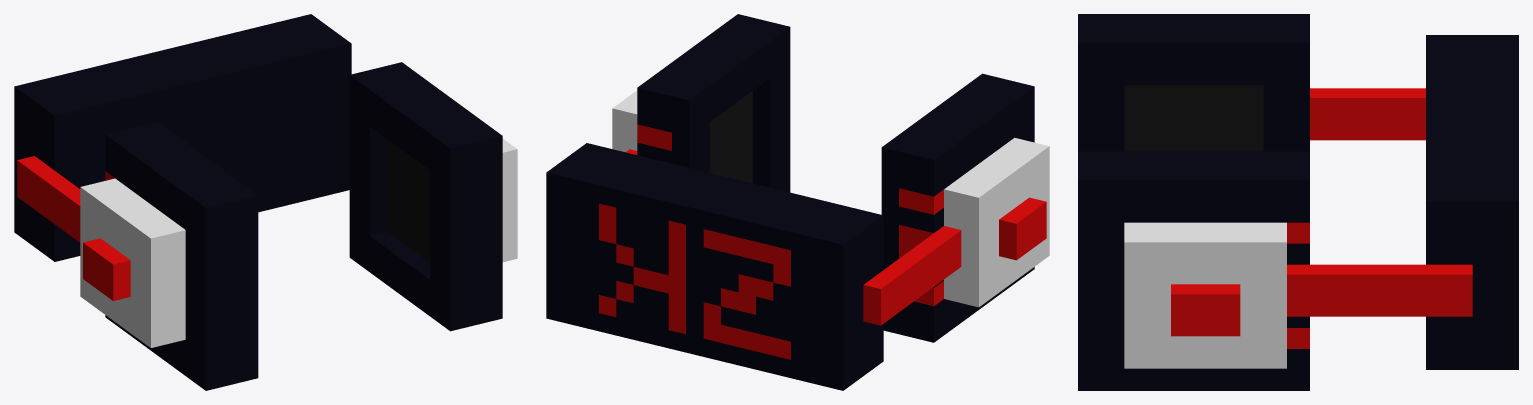
Rendered from Voxel Universe Objects-9.obj.
3 views of the same model, side by side, from view 1: azimuth 30°, elevation 25°; view 2: azimuth 150°, elevation 25°; view 3: azimuth 270°, elevation 25° (orthographic). The views are drawn at different scales.
Bounding box in the file's own units: 2.3 × 1 × 1.9.
Materials: 1 (1 with a texture image).
